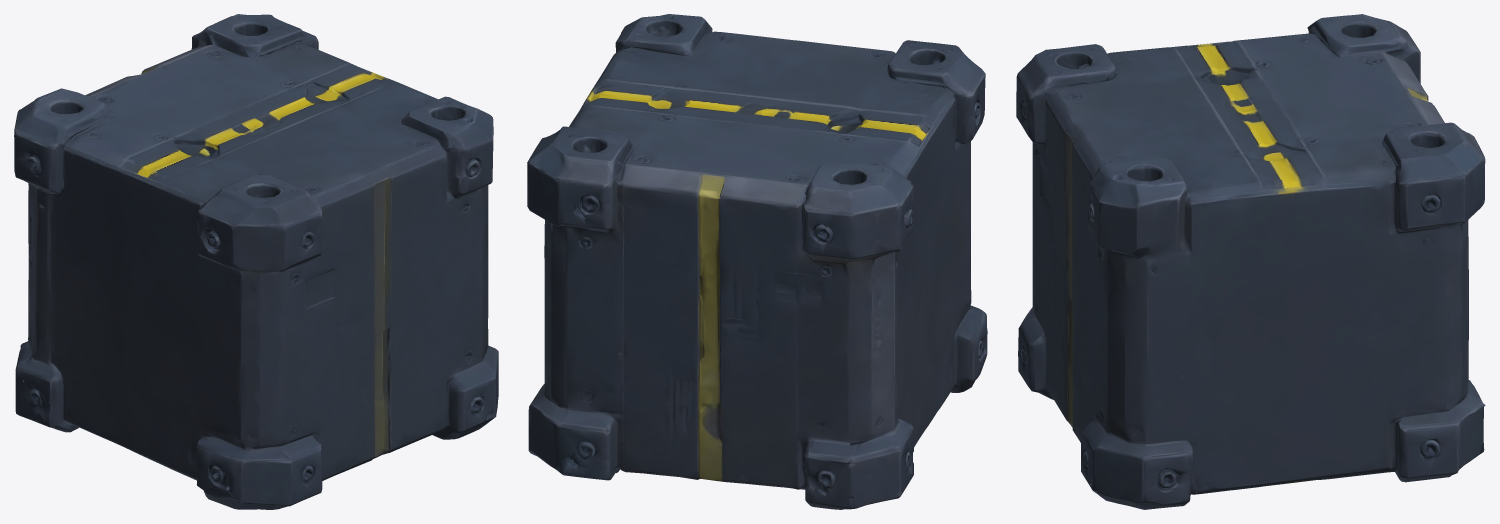
File: tripo_convert_3d86d549-1e4e-44e9-bd54-f5b9f8487b7a.fbx
The picture shows the model from 3 angles, left to right: view 1: azimuth 30°, elevation 25°; view 2: azimuth 150°, elevation 25°; view 3: azimuth 270°, elevation 25°; orthographic projection. The views are drawn at different scales.
Visible parts, largest first — view 1: tripo_node_3d86d549; view 2: tripo_node_3d86d549; view 3: tripo_node_3d86d549.
Boxes of the visible parts, left/top/right/bottom form: tripo_node_3d86d549: left=14, top=14, right=498, bottom=509; tripo_node_3d86d549: left=527, top=14, right=987, bottom=509; tripo_node_3d86d549: left=1016, top=14, right=1485, bottom=509.
Size of the model in its own units: 1.11 by 0.8628 by 1.13.
Materials: 1 (1 with a texture image).
